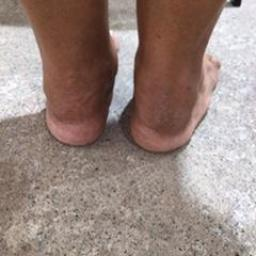Back View -Both Feet-: (18, 5, 226, 160)
